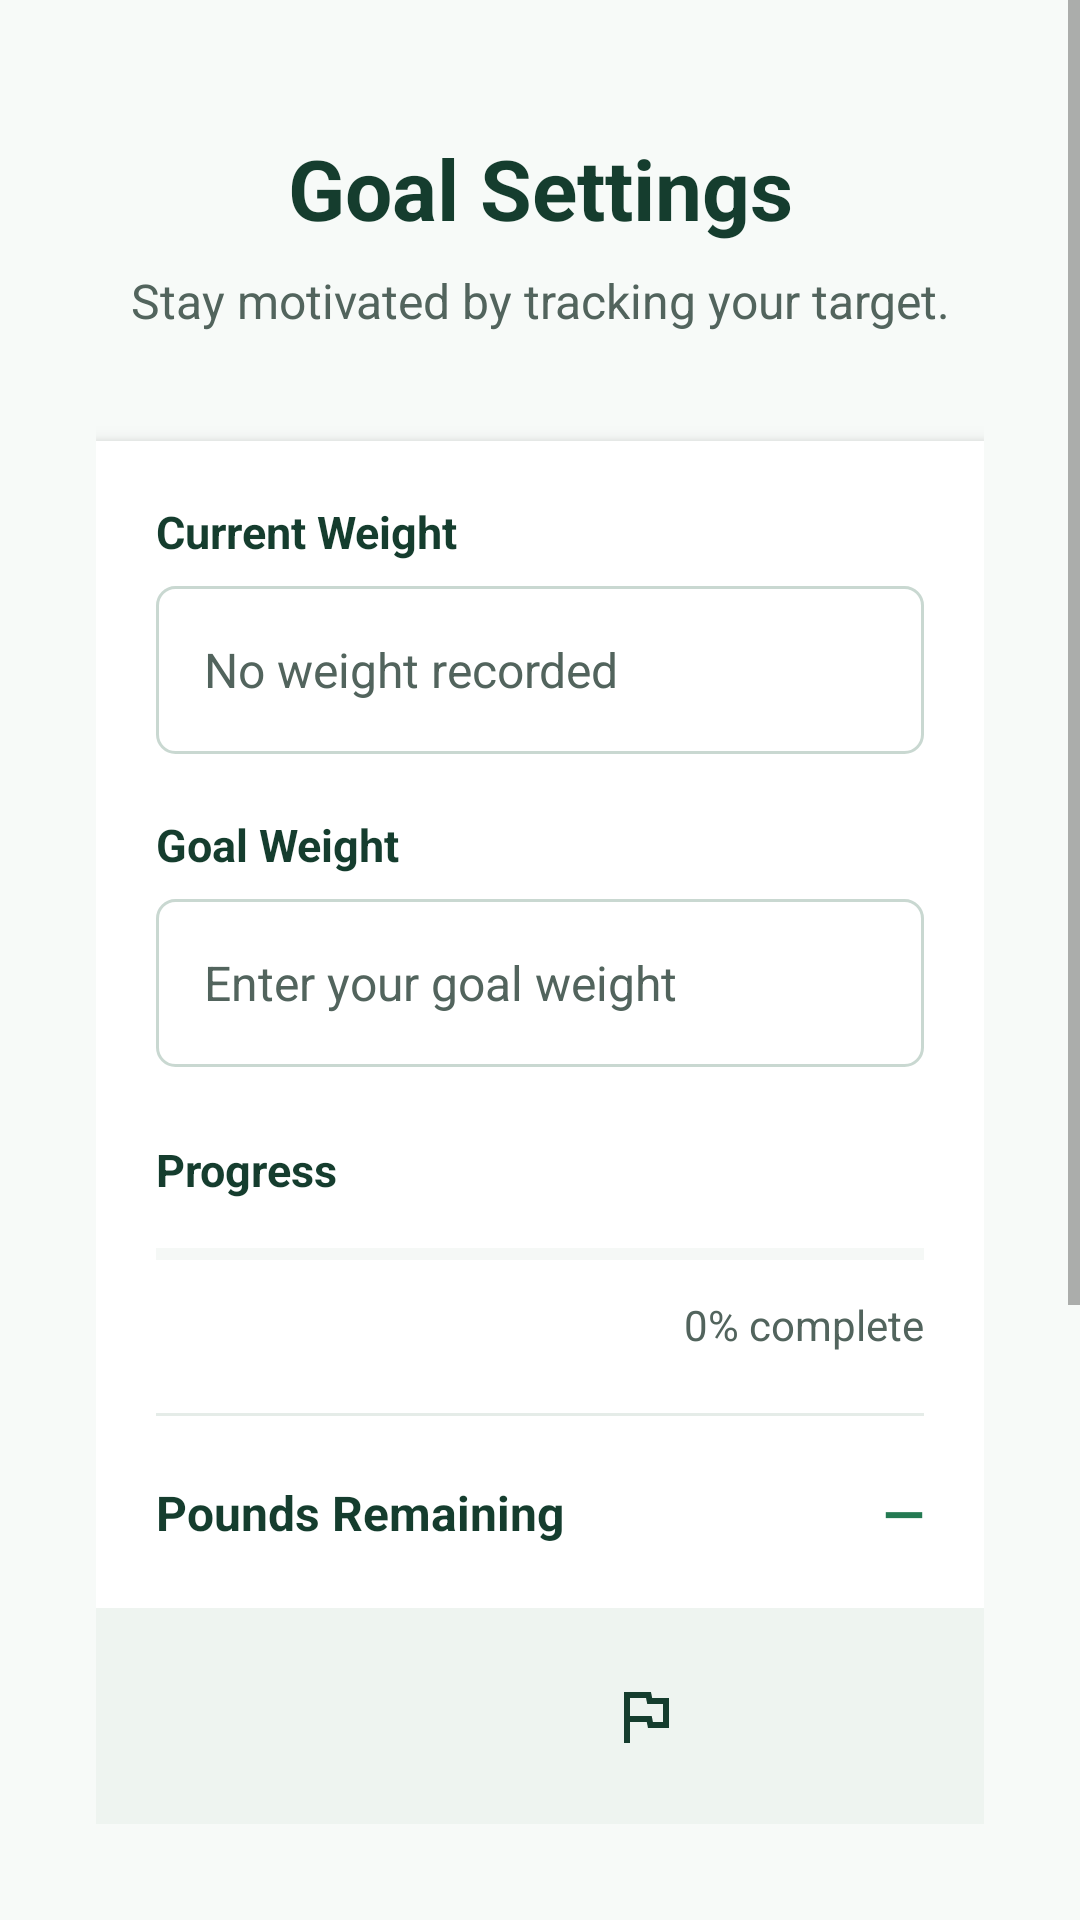

Locate icon controls on the screen. Image size 1080px×1920px, boxes as bbox=(x1, y1, x2, y2).
Goals: bbox=(624, 1692, 669, 1743)
